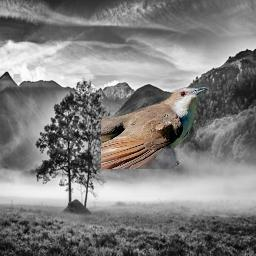Cuckoo: (101, 87, 208, 169)
